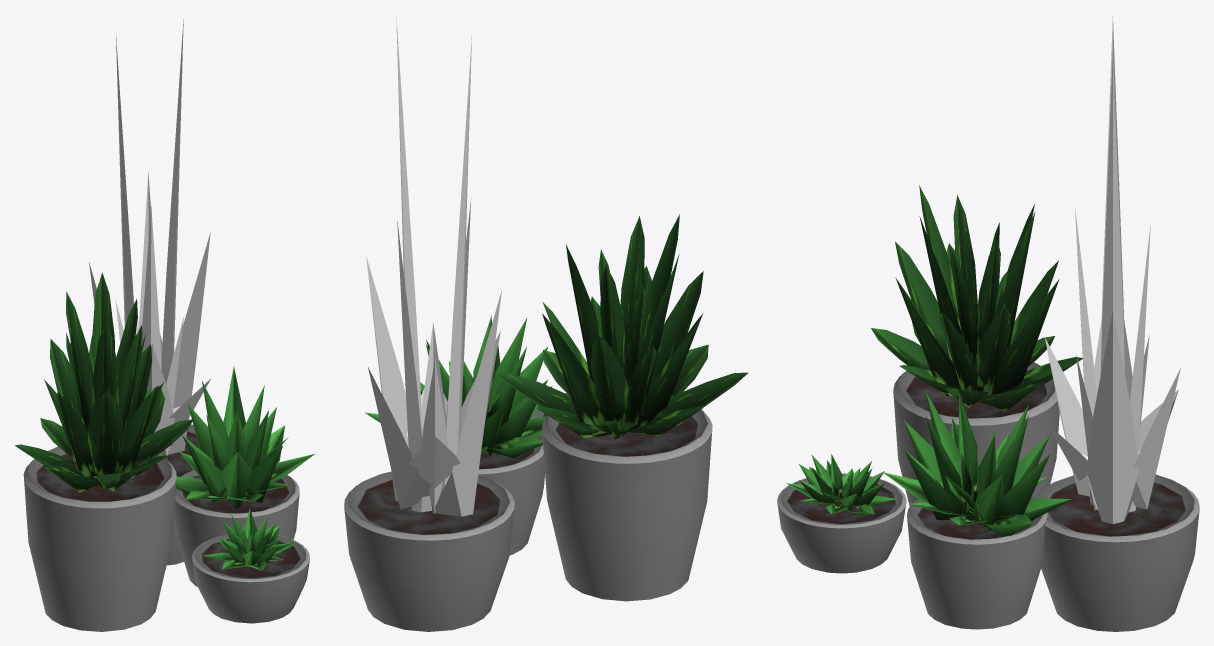
The model's file is small plants.fbx.
3 renders of one model, left to right at view 1: azimuth 30°, elevation 25°; view 2: azimuth 150°, elevation 25°; view 3: azimuth 270°, elevation 25°, orthographic. The views are drawn at different scales.
Parts seen in each view (by area): view 1: Cylinder.016, Plane.011, Plane.010, Plane.009, Cylinder.019, Cylinder.015, Plane.014, Cylinder.017; view 2: Cylinder.016, Plane.011, Plane.010, Cylinder.017, Plane.009, Cylinder.015; view 3: Plane.011, Plane.010, Cylinder.017, Cylinder.015, Plane.009, Cylinder.016, Cylinder.019, Plane.014.
Boxes of the visible parts, x1,y1,x2,y2 form: Cylinder.016: (23,446,176,631); Plane.011: (14,272,193,492); Plane.010: (88,19,211,458); Plane.009: (176,366,315,509); Cylinder.019: (192,534,309,623); Cylinder.015: (174,470,299,586); Plane.014: (204,508,297,570); Cylinder.017: (166,424,199,565); Cylinder.016: (542,409,712,601); Plane.011: (497,214,748,439); Plane.010: (366,17,501,516); Cylinder.017: (344,471,514,631); Plane.009: (365,315,552,458); Cylinder.015: (478,434,544,555); Plane.011: (871,185,1082,410); Plane.010: (1045,15,1180,524); Cylinder.017: (1035,474,1199,631); Cylinder.015: (907,496,1047,629); Plane.009: (882,392,1071,536); Cylinder.016: (893,362,1059,506); Cylinder.019: (777,473,906,573); Plane.014: (786,454,897,514).
Size of the model in its own units: 97.8 by 168 by 112.
6 materials, 5 textured.
